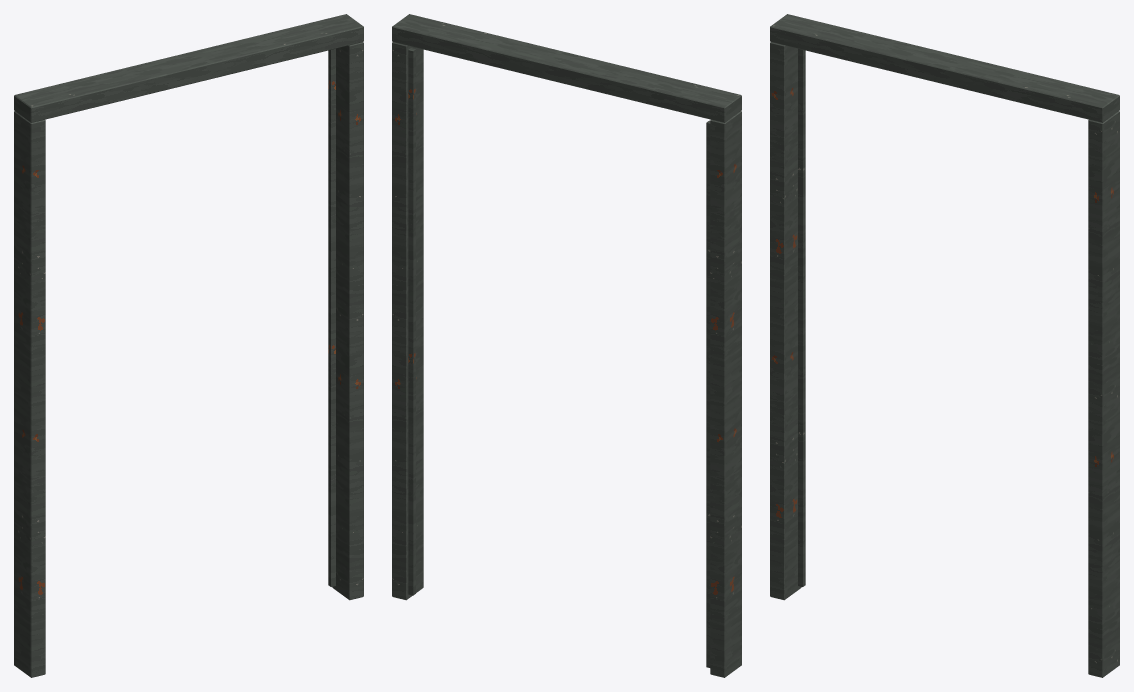
File: gk_doorframe.glb
3 views of the same model, side by side, from view 1: azimuth 30°, elevation 25°; view 2: azimuth 150°, elevation 25°; view 3: azimuth 330°, elevation 25° (orthographic).
Parts seen in each view (by area): view 1: p; view 2: p; view 3: p.
Part boxes in pixels (box(x1,y1,x2,y2)): p: box(14, 14, 363, 677); p: box(392, 14, 741, 677); p: box(770, 14, 1119, 677).
Bounding box in the file's own units: 1.32 × 2.16 × 0.12.
1 material, 1 textured.
